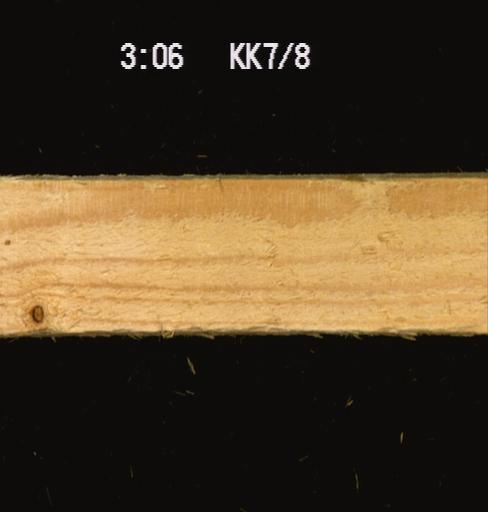dry_knot: (26, 302, 51, 326)
